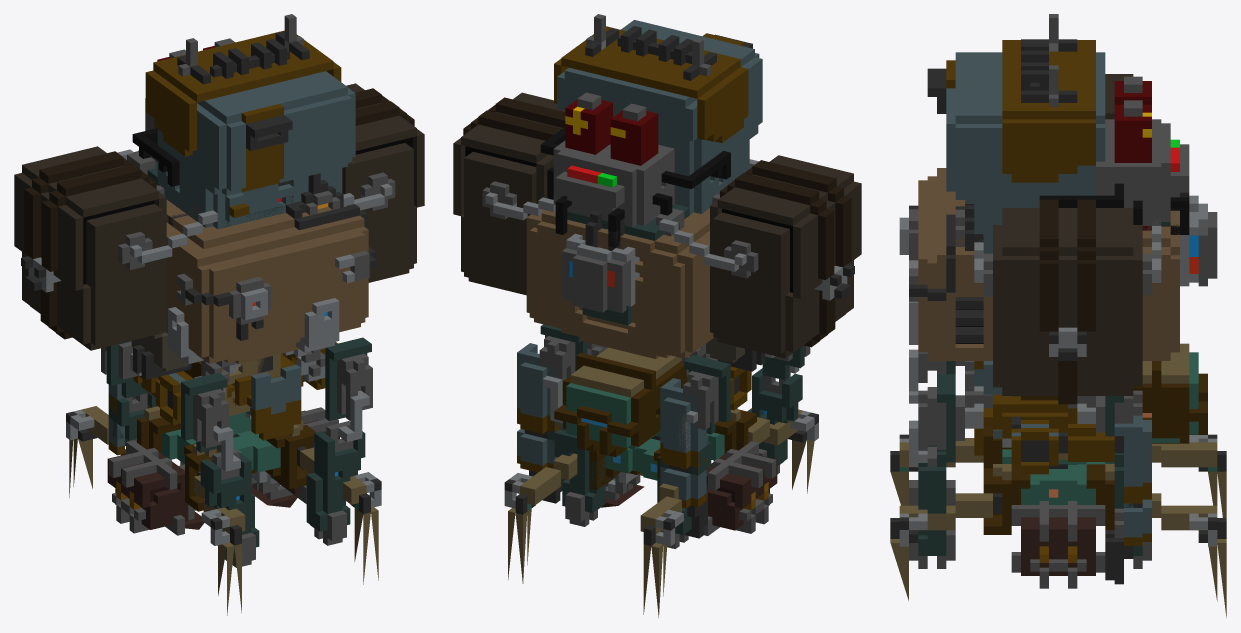
Rendered from wt_machines.glb.
The picture shows the model from 3 angles, left to right: view 1: azimuth 30°, elevation 25°; view 2: azimuth 150°, elevation 25°; view 3: azimuth 270°, elevation 25°; orthographic projection. The views are drawn at different scales.
Parts seen in each view (by area): view 1: scav, keeper, rfCore; view 2: scav, keeper, rfCore; view 3: scav, keeper, rfCore.
Part boxes in pixels (bbox=[...]): scav: bbox=[14, 83, 424, 567]; keeper: bbox=[108, 14, 355, 455]; rfCore: bbox=[66, 354, 381, 615]; scav: bbox=[453, 92, 861, 548]; keeper: bbox=[517, 14, 765, 538]; rfCore: bbox=[504, 347, 818, 617]; scav: bbox=[899, 74, 1217, 568]; keeper: bbox=[927, 14, 1189, 584]; rfCore: bbox=[890, 343, 1226, 617].
Size of the model in its own units: 5 by 6.45 by 3.6.
